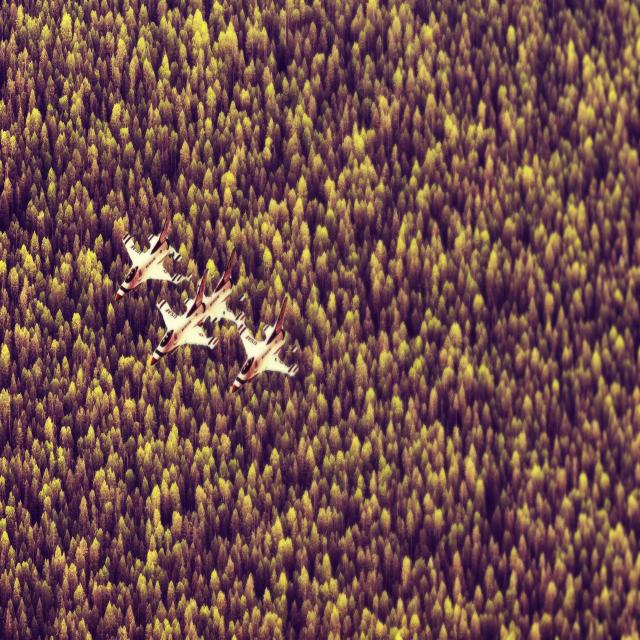airplane: (150, 246, 238, 367), (114, 207, 189, 302), (230, 294, 298, 394)
